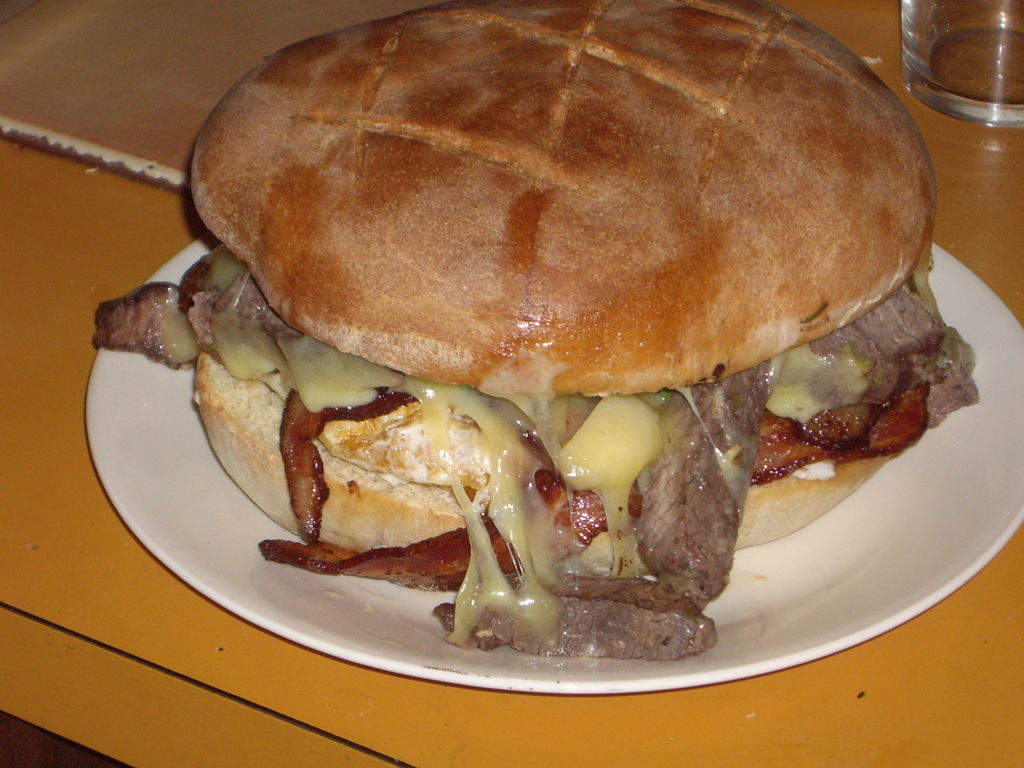sandwich: (94, 0, 988, 681)
